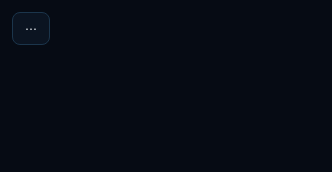
Test: ActionDropdown › portals the menu outside overflowing containers and supports keyboard navigation
Click the button named "Property actions" at coordinates (31, 28), box [12,12,50,45]
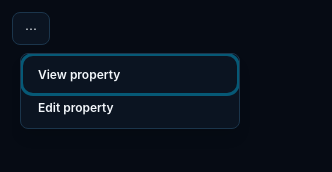
Press Arrowdown
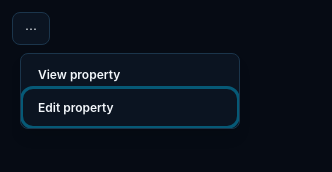
Press Escape
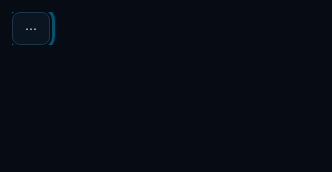
expect the menu is gone: met
